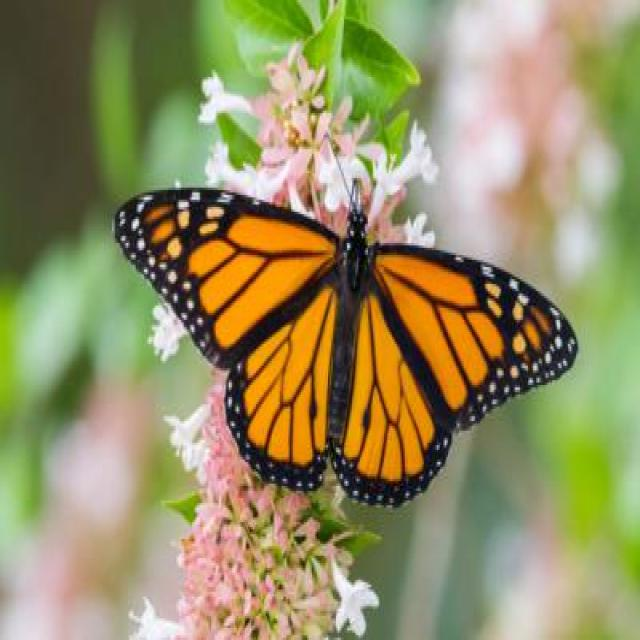body: (325, 206, 366, 450)
insect: (115, 138, 579, 508)
wings: (115, 185, 339, 492), (339, 245, 579, 510)
